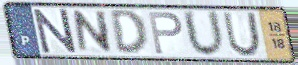D: (108, 9, 151, 57)
N: (31, 7, 79, 55), (71, 10, 114, 55)
P: (146, 10, 185, 56)
U: (180, 8, 228, 59), (221, 11, 263, 58)
